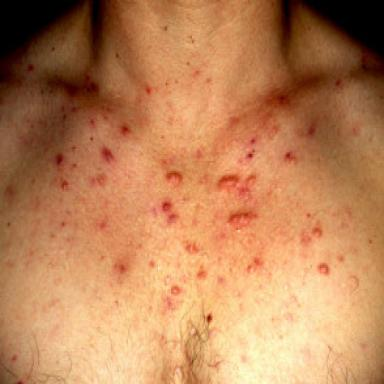acne: (229, 213, 257, 228), (218, 175, 239, 189), (90, 173, 107, 186), (167, 172, 182, 186), (102, 147, 113, 162), (237, 186, 251, 197), (185, 242, 199, 253), (301, 231, 312, 245), (284, 151, 296, 162), (245, 175, 257, 186), (312, 225, 323, 237), (307, 122, 316, 136), (318, 263, 329, 274), (162, 201, 173, 212), (166, 297, 175, 310), (270, 125, 278, 139), (167, 214, 178, 224), (115, 263, 126, 273), (121, 125, 131, 135), (197, 268, 207, 278), (253, 257, 263, 267), (171, 285, 180, 295), (246, 149, 255, 159), (55, 154, 63, 164), (99, 220, 107, 229), (61, 180, 68, 190), (27, 64, 35, 72), (335, 78, 342, 86), (247, 265, 254, 273), (146, 85, 151, 94), (149, 260, 155, 267), (90, 119, 95, 127), (251, 137, 256, 144), (61, 221, 65, 227)
